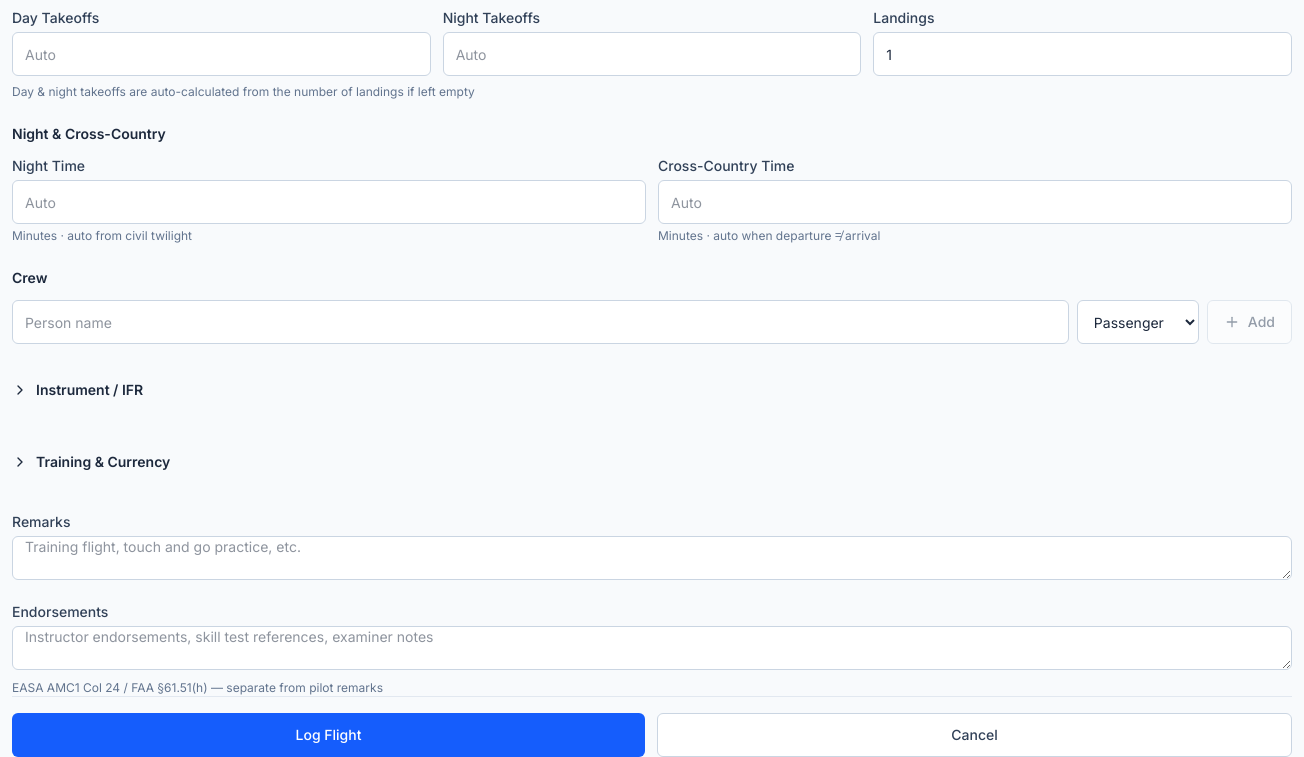
Test: FlightForm Instrument Tracking › renders instrument tracking fields when Instrument / IFR section is expanded
(page scrolled)
// Expand Instrument / IFR section
Click the button "Instrument / IFR".
click(90, 390)  # box left=12, top=368, right=1292, bottom=412
(page scrolled)
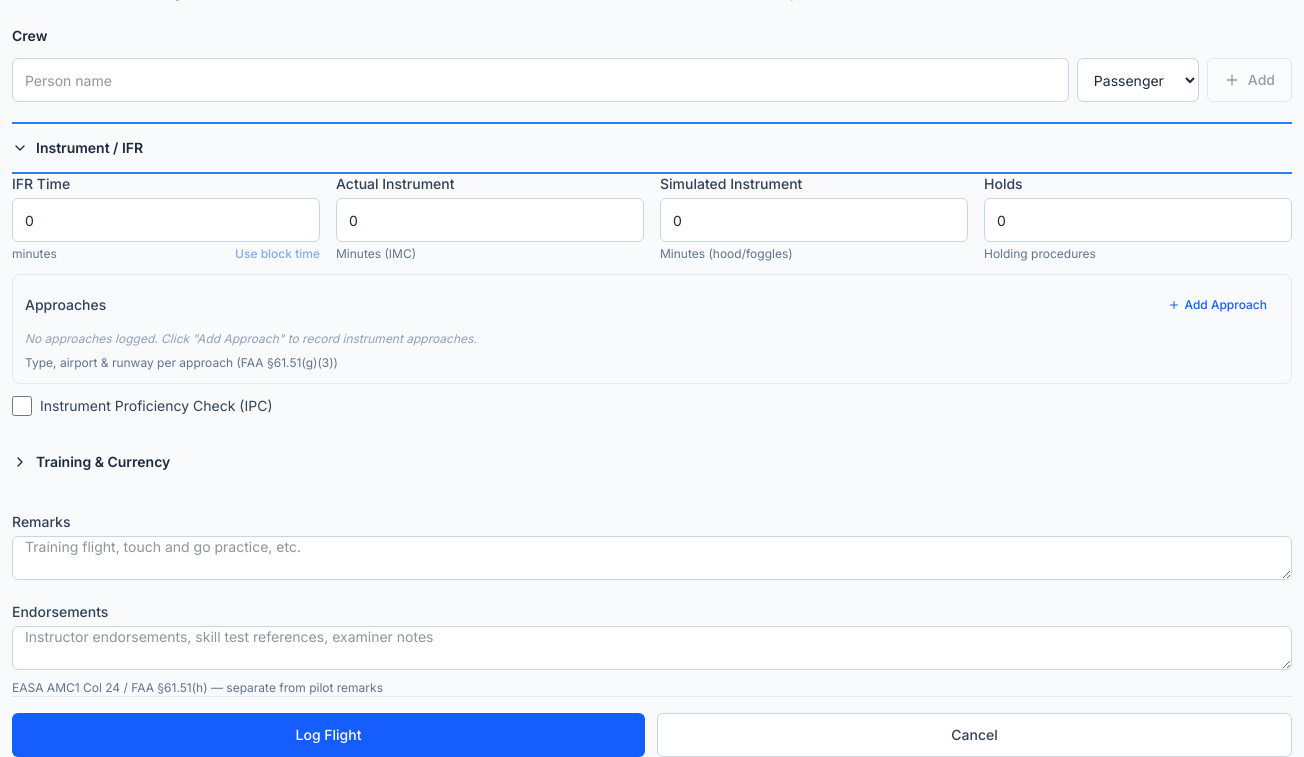
Check: the number field labelled "Actual Instrument" is shown, box left=336, top=198, right=644, bottom=242
Check: the number field labelled "Simulated Instrument" is shown, box left=660, top=198, right=968, bottom=242
Check: the text "Approaches" is shown, box left=25, top=295, right=106, bottom=315
// Flight Review lives in the separate Training & Currency section
Click the button "Training & Currency".
click(103, 462)  # box left=12, top=440, right=1292, bottom=484
(page scrolled)
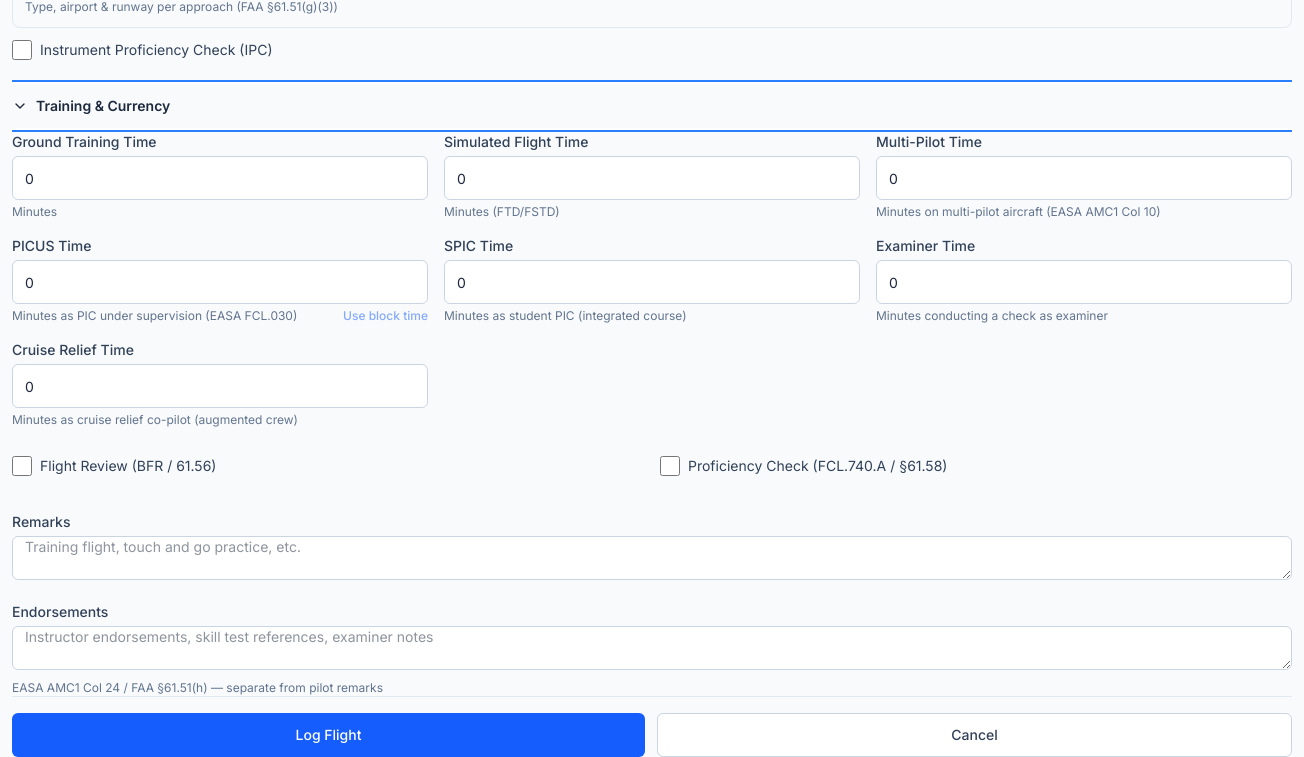
Check: the checkbox labelled "Flight Review (BFR / 61.56)" is shown, box left=12, top=456, right=32, bottom=476
